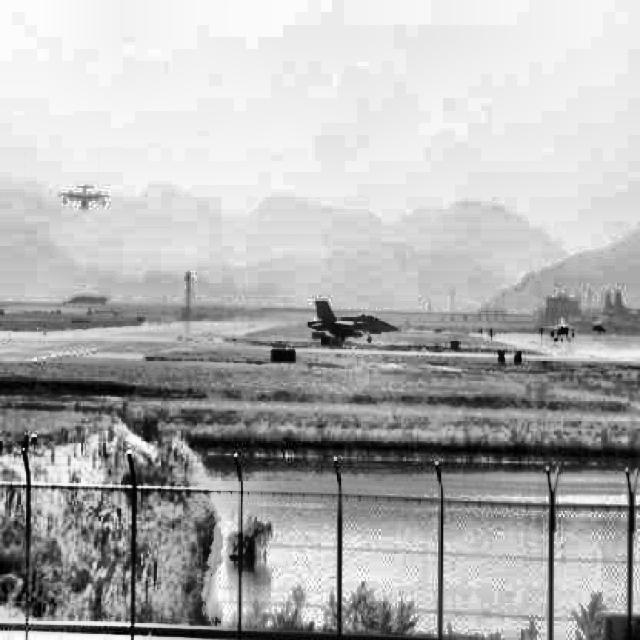F18: (308, 299, 400, 344), (535, 310, 587, 342)
US2: (59, 184, 110, 210)
